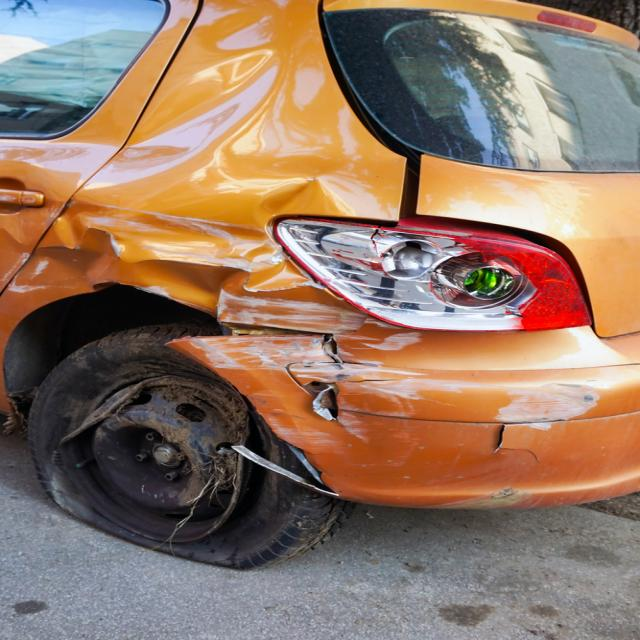Cabossage: (74, 0, 349, 300)
Dechirure: (307, 330, 365, 447)
Phare abime: (276, 204, 587, 337)
Rayure: (35, 210, 407, 447), (493, 381, 604, 452)
